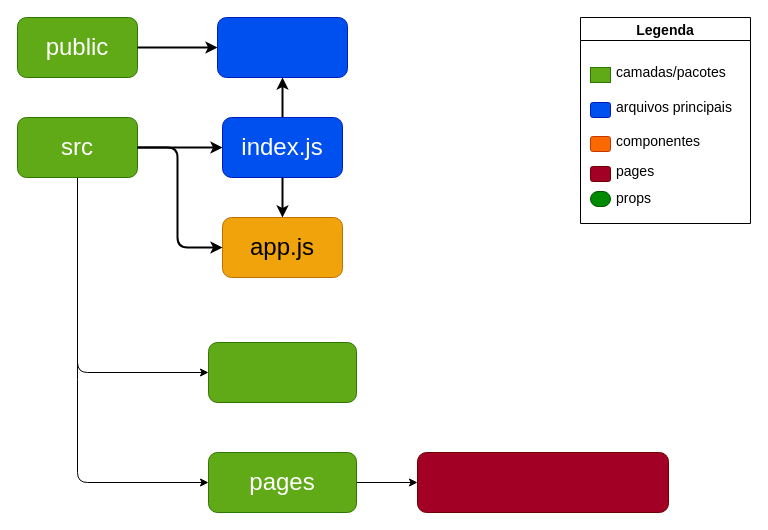
Image size: 768x530. Some labels were removed from this diagram. The centre of each missing label's shape, as x and y in pixels:
components: the point at 282,372
index.html: the point at 282,47
Musicas: the point at 542,482
